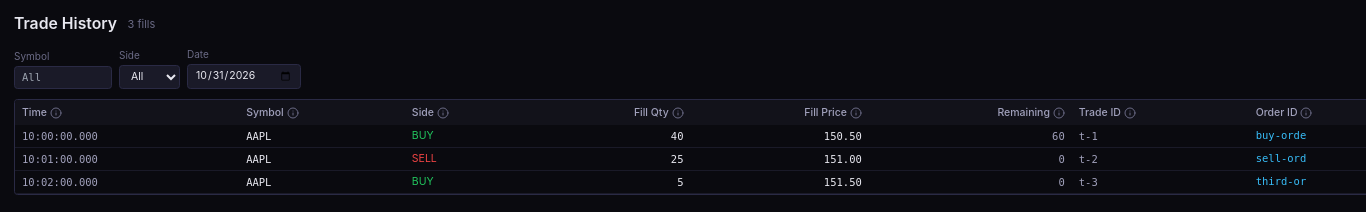
Test: TradeHistoryPage (§13.5) › filters by side client-side
Check: the text "t-1" is shown, box [1072,125,1249,147]
Select "SELL" in the dropdown named "Filter side" at [150, 77], box [119,65,180,89]
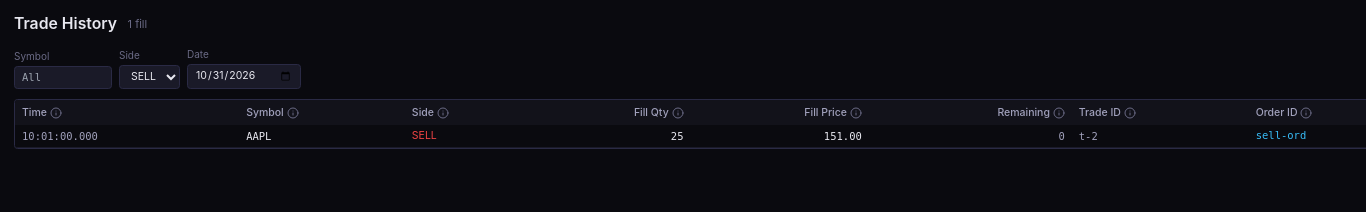
Check: the text "t-2" is shown, box [1072,125,1249,147]
Check: the text "t-1" is gone
